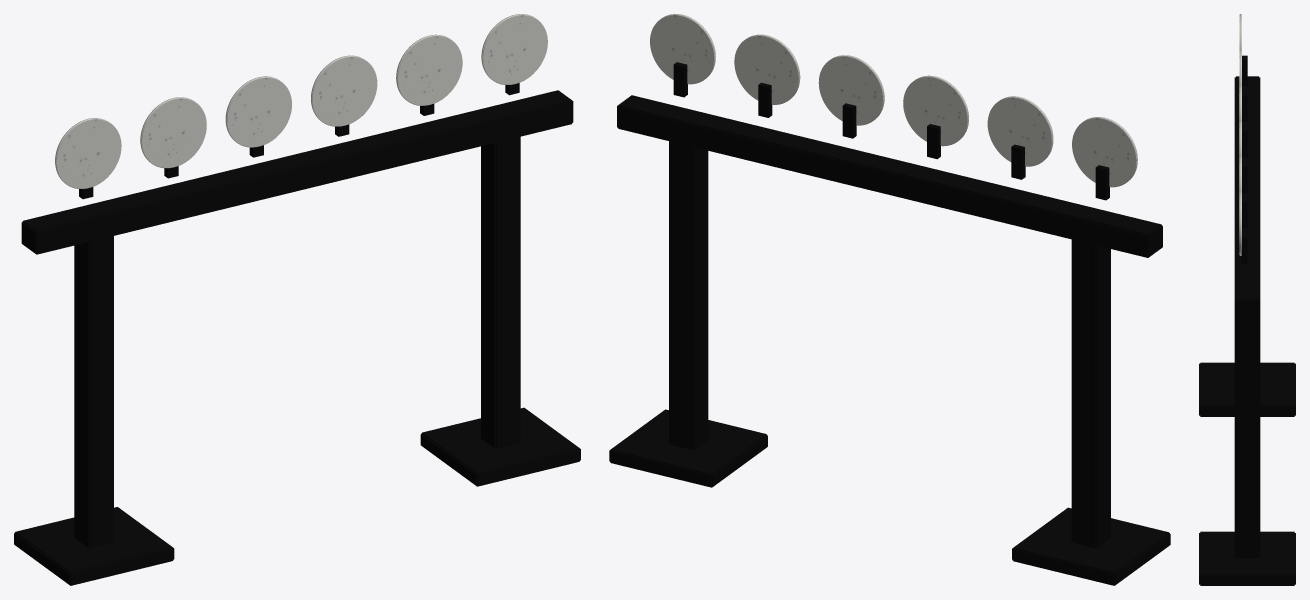
File: obj_steel_plate_rack.glb
The picture shows the model from 3 angles, left to right: view 1: azimuth 30°, elevation 25°; view 2: azimuth 150°, elevation 25°; view 3: azimuth 270°, elevation 25°; orthographic projection. The views are drawn at different scales.
Parts seen in each view (by area): view 1: steel_plate_rack_body, rack_plate.002, rack_plate.001, rack_plate.004, rack_plate.003, rack_plate, rack_plate.005; view 2: steel_plate_rack_body, rack_plate.004, rack_plate.003, rack_plate.001, rack_plate.005, rack_plate, rack_plate.002; view 3: steel_plate_rack_body, rack_plate.005.
Part boxes in pixels (box(x1,y1,x2,y2)): steel_plate_rack_body: box(14, 83, 580, 585); rack_plate.002: box(225, 76, 291, 147); rack_plate.001: box(140, 97, 206, 168); rack_plate.004: box(396, 34, 462, 105); rack_plate.003: box(311, 55, 377, 126); rack_plate: box(55, 118, 121, 188); rack_plate.005: box(481, 14, 547, 84); steel_plate_rack_body: box(609, 62, 1170, 585); rack_plate.004: box(734, 34, 800, 104); rack_plate.003: box(818, 55, 884, 125); rack_plate.001: box(987, 96, 1053, 166); rack_plate.005: box(650, 14, 715, 84); rack_plate: box(1072, 117, 1137, 187); rack_plate.002: box(903, 75, 968, 146); steel_plate_rack_body: box(1199, 55, 1295, 585); rack_plate.005: box(1239, 191, 1241, 255).
Size of the model in its own units: 1.64 by 1.28 by 0.3.
Materials: 2 (2 with a texture image).
